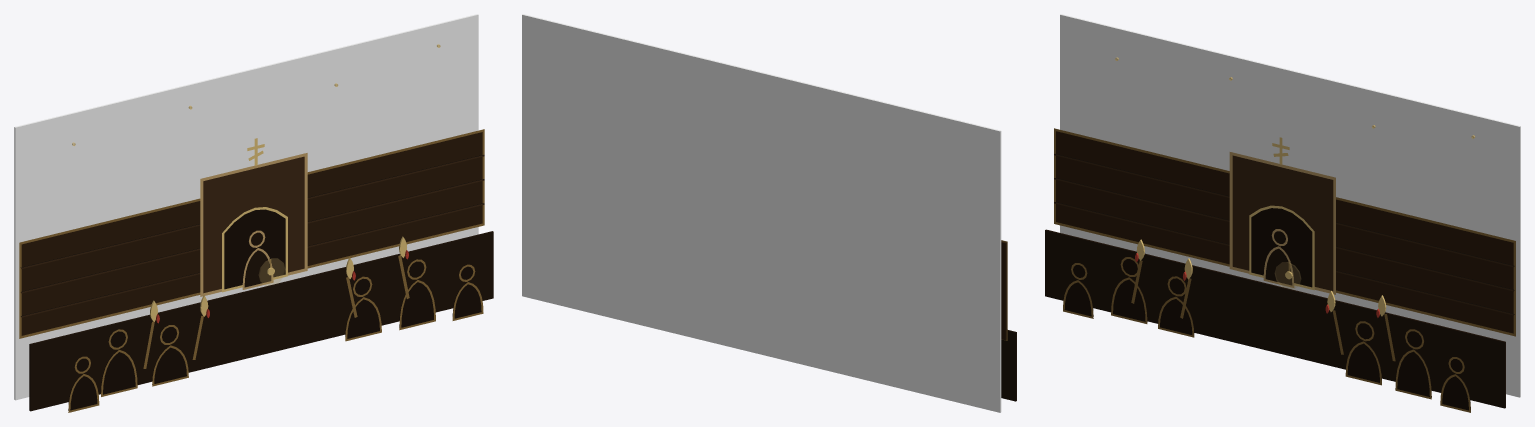
The model's file is loc-vorota-obiteli.glb.
3 renders of one model, left to right at view 1: azimuth 30°, elevation 25°; view 2: azimuth 150°, elevation 25°; view 3: azimuth 330°, elevation 25°, orthographic. The views are drawn at different scales.
Parts seen in each view (by area): view 1: loc-vorota-obiteli; view 2: loc-vorota-obiteli; view 3: loc-vorota-obiteli.
Part boxes in pixels (x1,y1,x2,y2): loc-vorota-obiteli: (14, 14, 493, 412); loc-vorota-obiteli: (522, 14, 1016, 412); loc-vorota-obiteli: (1045, 14, 1520, 412).
Size of the model in its own units: 5.36 by 3.01 by 0.74.
